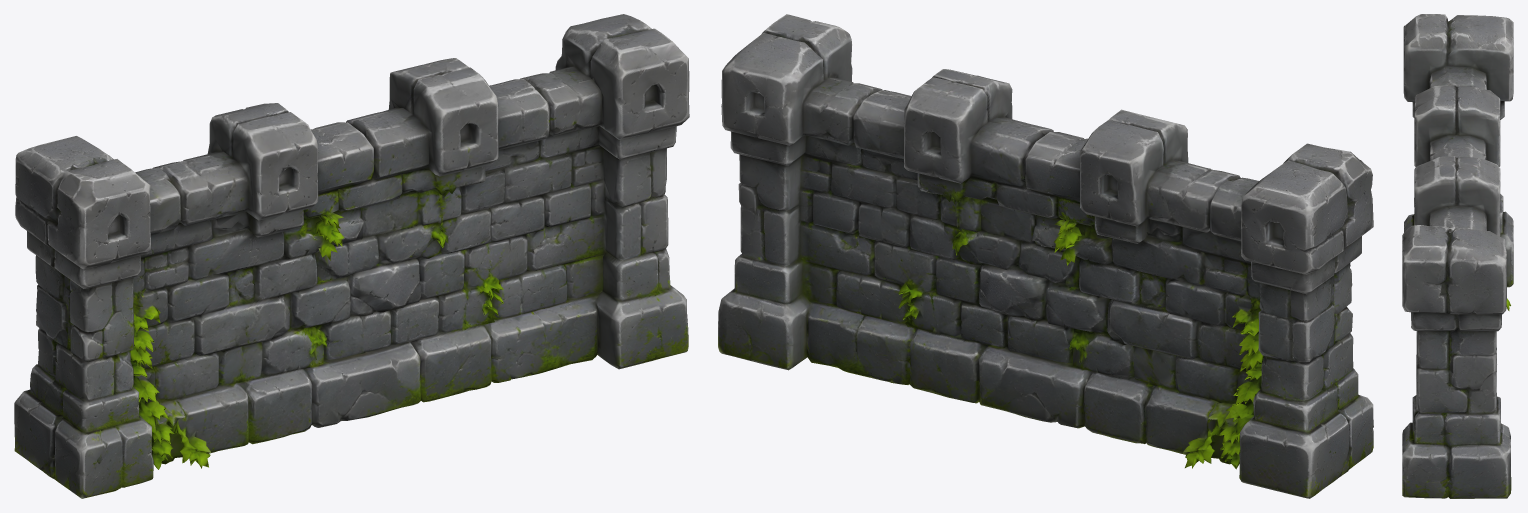
File: Mural de Castelo Grande.glb
3 views of the same model, side by side, from view 1: azimuth 30°, elevation 25°; view 2: azimuth 150°, elevation 25°; view 3: azimuth 270°, elevation 25° (orthographic). The views are drawn at different scales.
Parts seen in each view (by area): view 1: tripo_node_fbc36c58-f140-4dcf-8cc9-25e3dd37d71c; view 2: tripo_node_fbc36c58-f140-4dcf-8cc9-25e3dd37d71c; view 3: tripo_node_fbc36c58-f140-4dcf-8cc9-25e3dd37d71c.
Boxes of the visible parts, <box> form: tripo_node_fbc36c58-f140-4dcf-8cc9-25e3dd37d71c: <box>14,14,689,498</box>; tripo_node_fbc36c58-f140-4dcf-8cc9-25e3dd37d71c: <box>718,14,1373,498</box>; tripo_node_fbc36c58-f140-4dcf-8cc9-25e3dd37d71c: <box>1402,14,1513,498</box>.
Size of the model in its own units: 1 by 0.4843 by 0.1954.
1 material, 1 textured.
